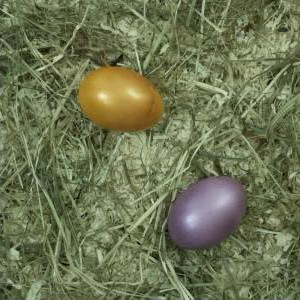egg: (168, 176, 246, 248), (77, 68, 161, 130)
